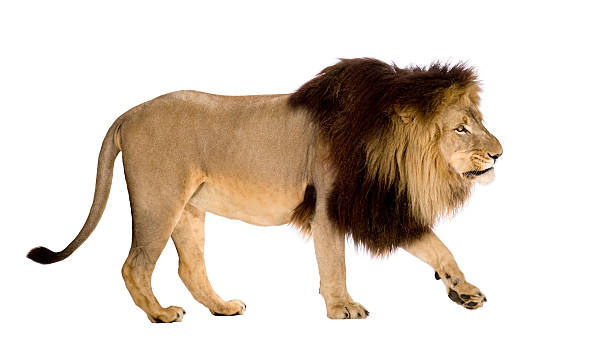lion: (295, 34, 514, 288)
